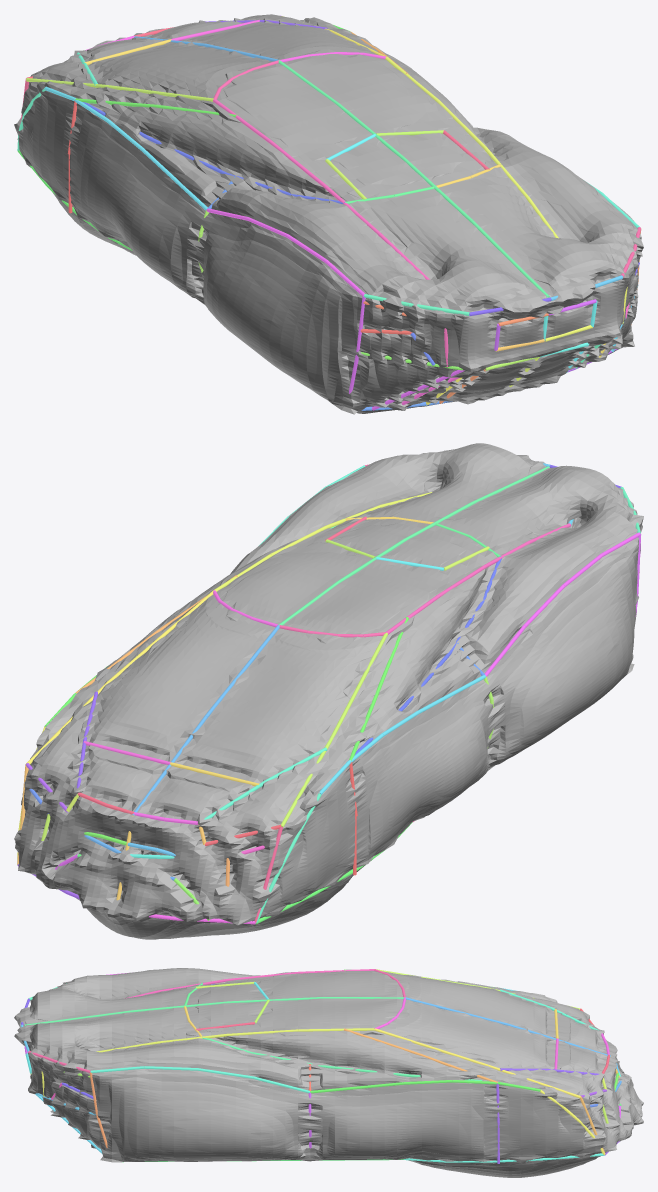
File: ils_car3.gltf
The picture shows the model from 3 angles, top to bottom: view 1: azimuth 30°, elevation 25°; view 2: azimuth 150°, elevation 25°; view 3: azimuth 270°, elevation 25°; orthographic projection. The views are drawn at different scales.
Bounding box in the file's own units: 0.4257 × 0.2629 × 0.9382.
